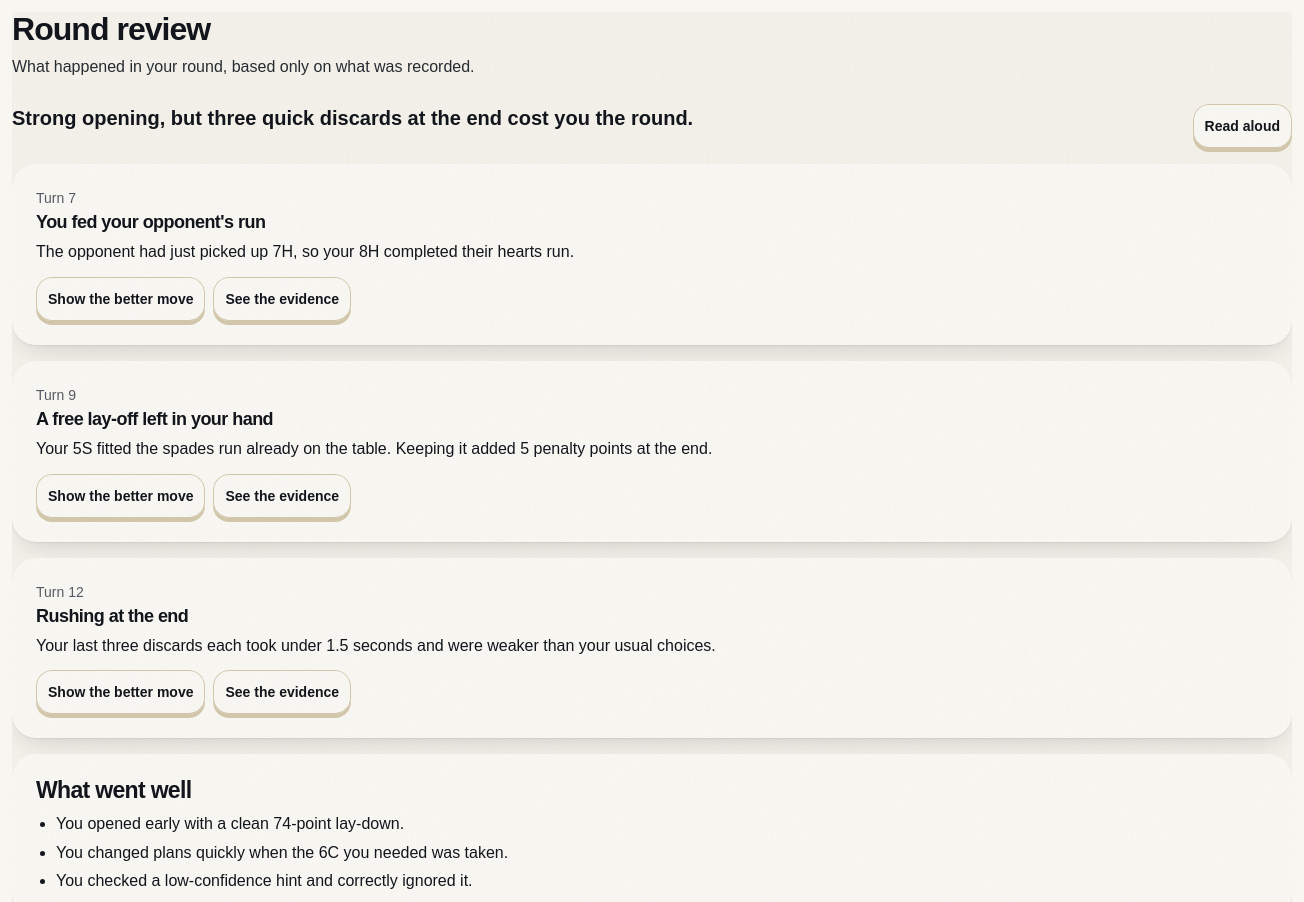
Test: round review › shows the recorded facts a key moment cites, only when asked
The image size is (1304, 902).
expect the heading "You fed your opponent's run" is shown: met, box [36,212,265,232]
expect the text "Two turns earlier the opponent had picked up 7H" is not shown: met
Click the button "See the evidence" below "You fed your opponent's run" at [282, 299], box [214,277,351,321]
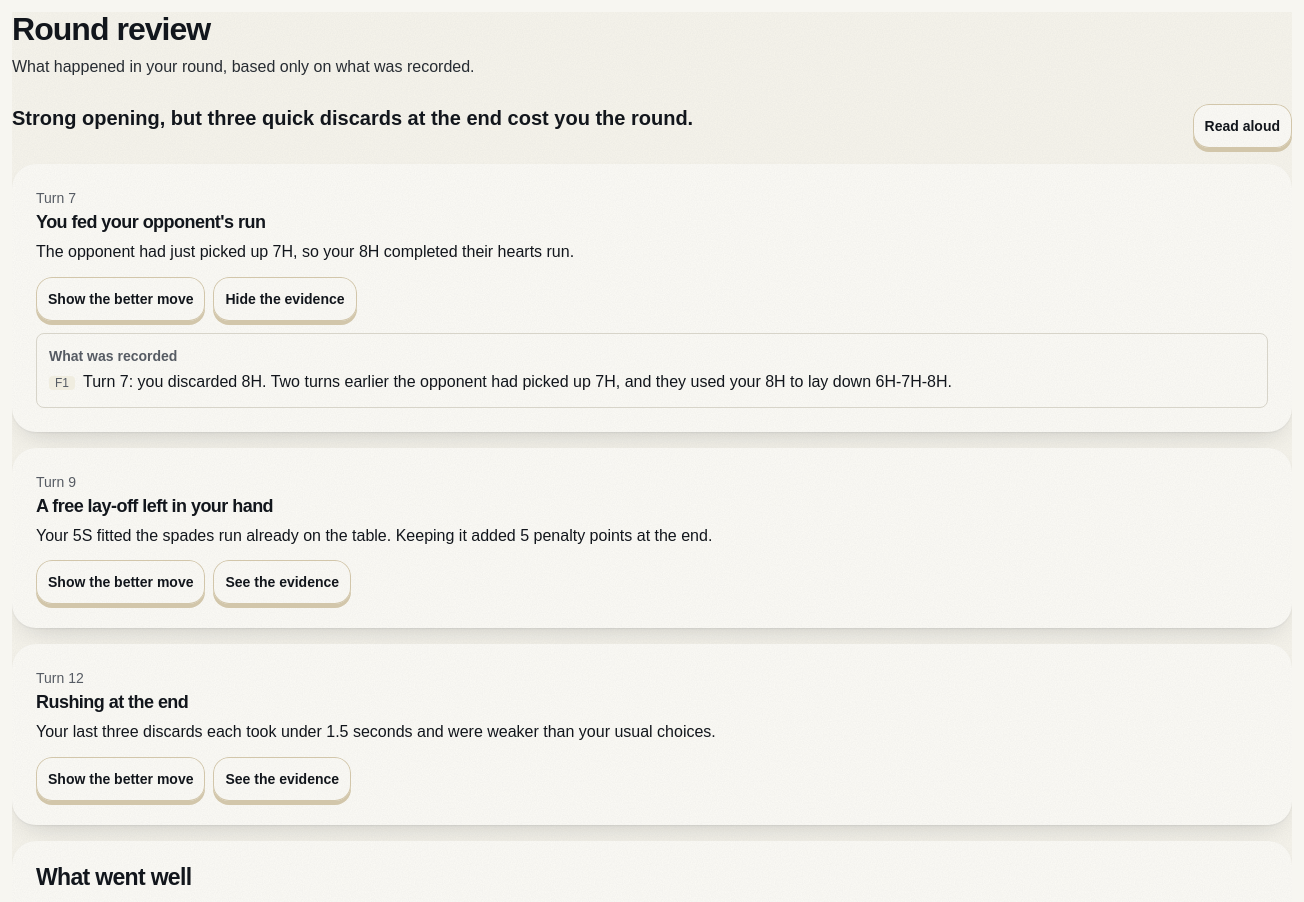
expect the list item "Two turns earlier the opponent had picked up 7H" is shown: met, box [83,373,952,390]
expect the text "F1" is shown: met, box [49,376,75,390]
